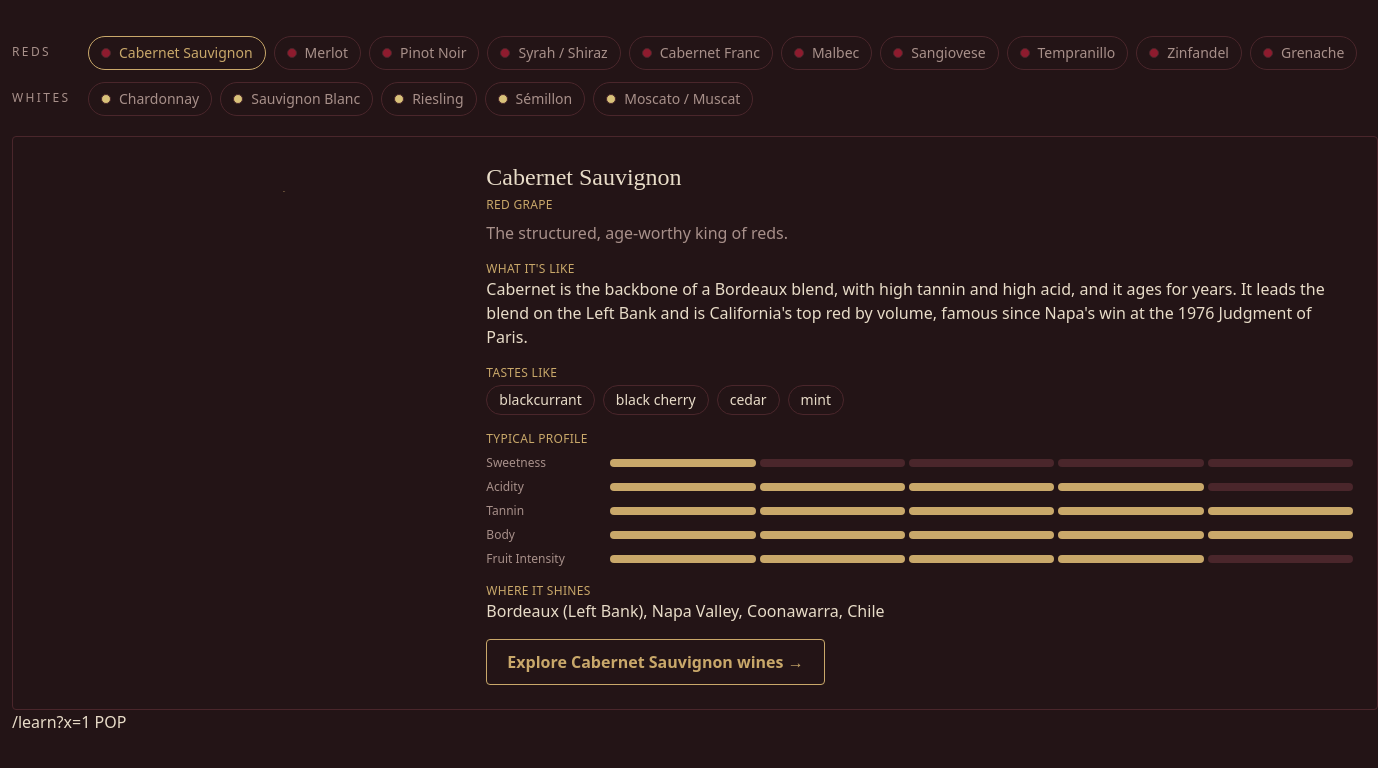
GrapesChapter › keeps the query string when writing the hash
Click the tab "Merlot".
click(317, 53)  # box [274,36,361,70]
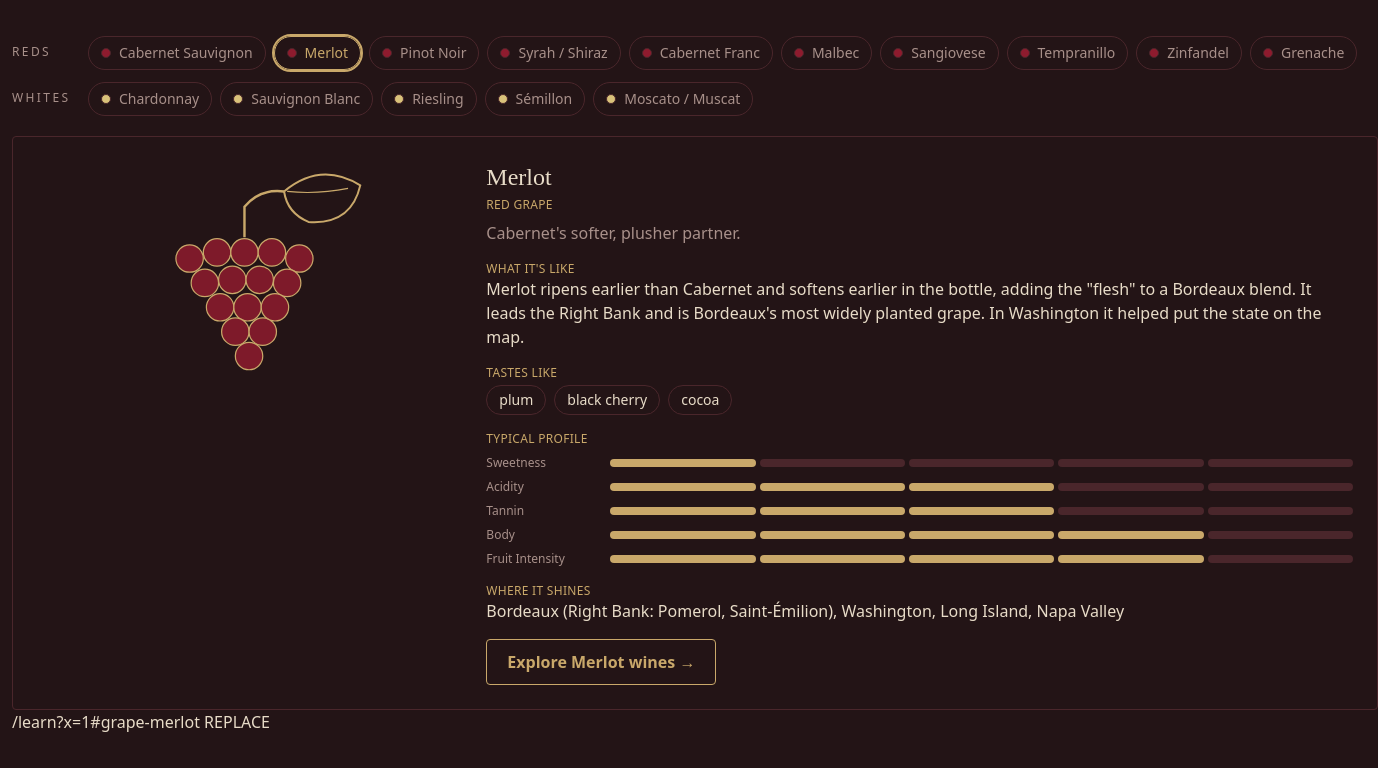
Now the text with test id "location" reads "/learn?x=1#grape-merlot REPLACE", box [12,711,270,733]
